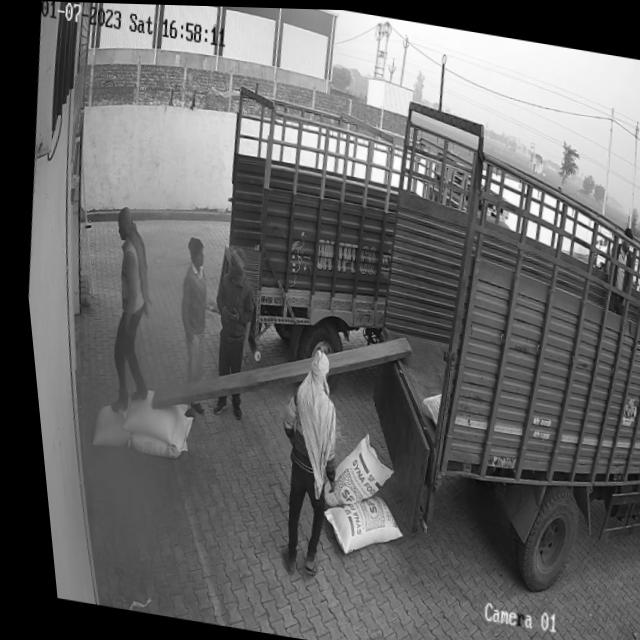sack: (307, 426, 391, 514), (306, 486, 398, 561), (110, 385, 184, 446), (78, 402, 127, 452), (116, 429, 172, 460)
